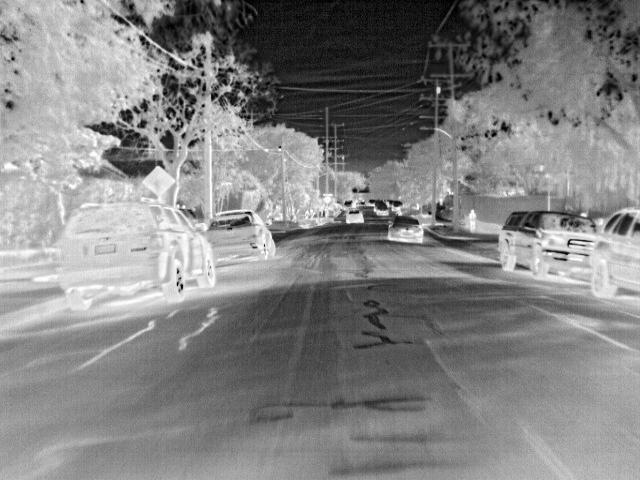car: (60, 199, 215, 311), (500, 211, 602, 278), (591, 207, 639, 299), (205, 208, 275, 264), (387, 213, 424, 243), (348, 207, 366, 221), (374, 200, 389, 216), (388, 198, 403, 210), (368, 198, 382, 209), (343, 197, 354, 210)
person: (467, 207, 479, 233)
